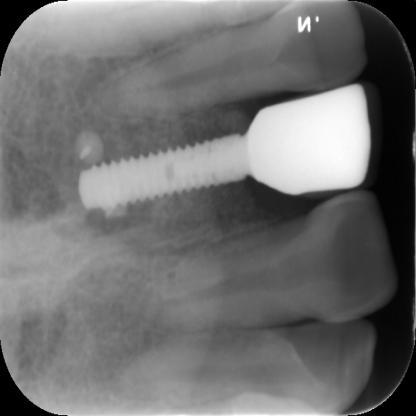ITI: (76, 132, 250, 216)
